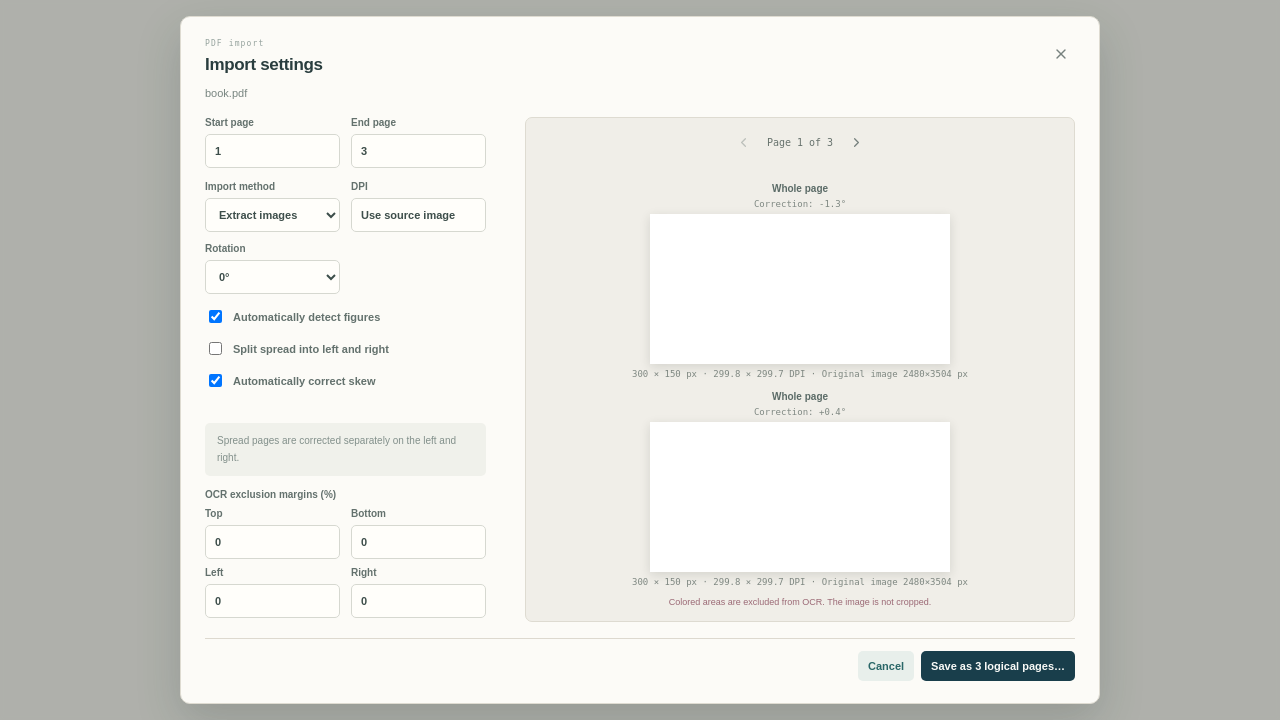
Test: ImportModal validation › shows each side's applied angle with its sign and replaces angles when deskew is off
Click the checkbox named "Split spread into left and right" at {"x": 216, "y": 349}, box top-left (209, 342), bottom-right (222, 355)
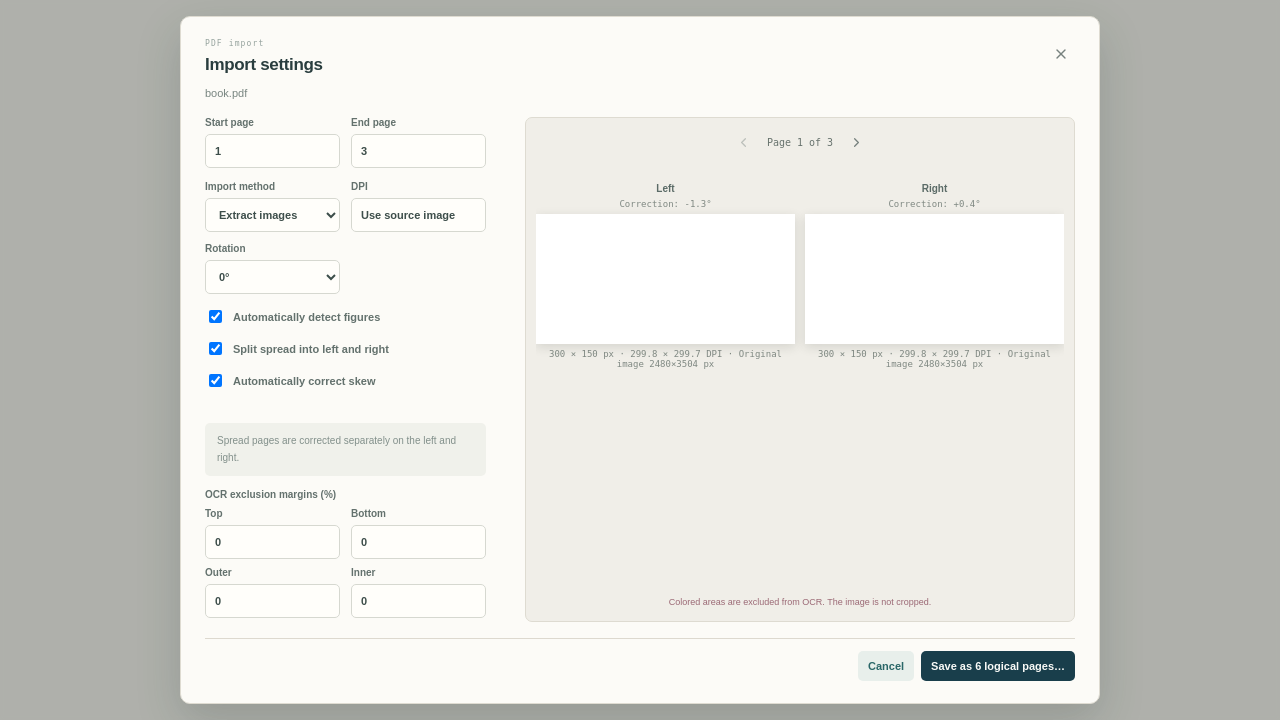
Expected: the text with class "deskew-angle" reads "Correction: -1.3°", top-left (619, 199), bottom-right (712, 209)
Expected: the text with class "deskew-angle" reads "Correction: +0.4°", top-left (888, 199), bottom-right (980, 209)
Click the checkbox labelled "Automatically correct skew" at {"x": 216, "y": 381}, box top-left (209, 374), bottom-right (222, 387)
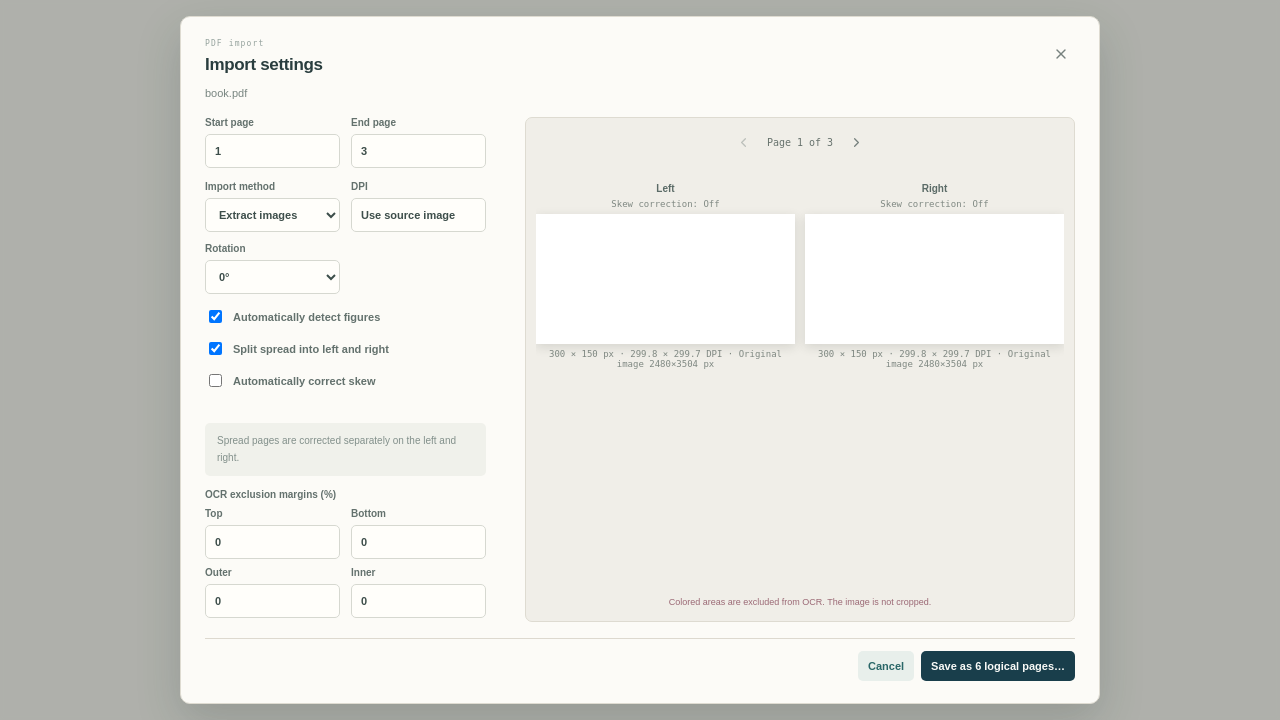
Click the checkbox labelled "Automatically correct skew" at {"x": 216, "y": 381}, box top-left (209, 374), bottom-right (222, 387)
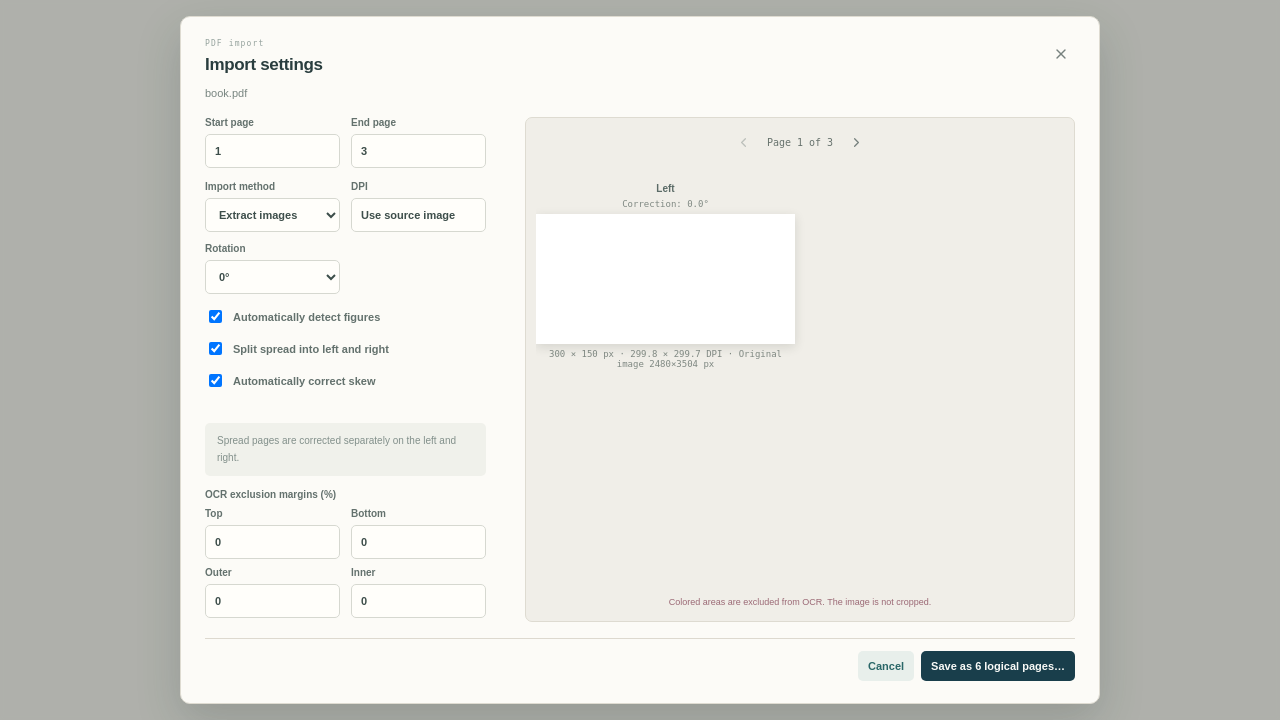
Expected: the text with class "deskew-angle" reads "Correction: 0.0°", top-left (622, 199), bottom-right (709, 209)
